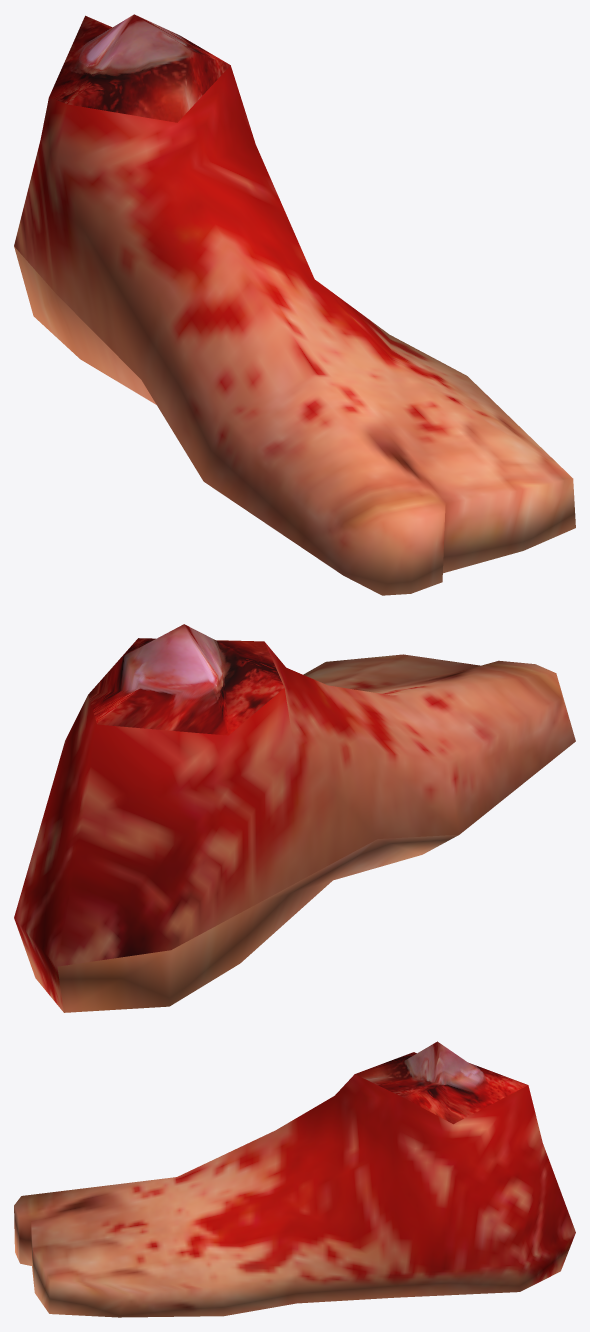
File: female_lt_foot.fbx
The picture shows the model from 3 angles, top to bottom: view 1: azimuth 30°, elevation 25°; view 2: azimuth 150°, elevation 25°; view 3: azimuth 270°, elevation 25°; orthographic projection. The views are drawn at different scales.
Parts seen in each view (by area): view 1: fm_lt_foot_gib; view 2: fm_lt_foot_gib; view 3: fm_lt_foot_gib.
Part boxes in pixels (bbox=[...]): fm_lt_foot_gib: bbox=[14, 14, 575, 595]; fm_lt_foot_gib: bbox=[14, 624, 575, 1012]; fm_lt_foot_gib: bbox=[14, 1041, 575, 1317].
Bounding box in the file's own units: 0.1092 × 0.1316 × 0.2899.
